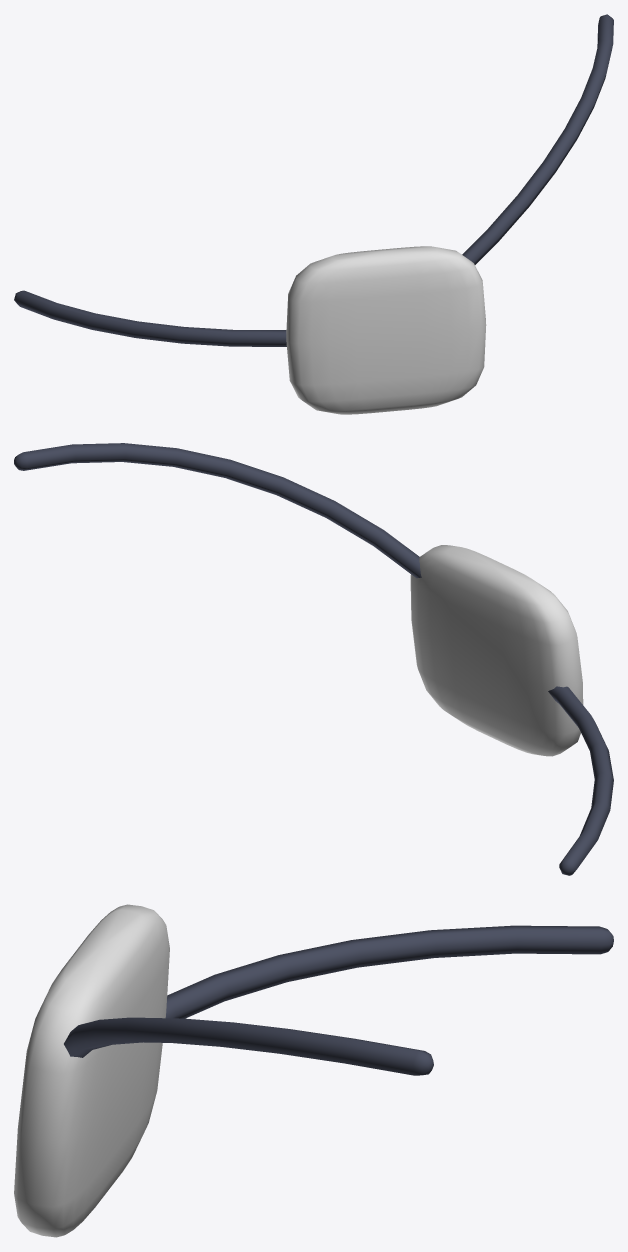
The model's file is eye_patch.glb.
3 renders of one model, top to bottom at view 1: azimuth 30°, elevation 25°; view 2: azimuth 150°, elevation 25°; view 3: azimuth 270°, elevation 25°, orthographic. The views are drawn at different scales.
Visible parts, largest first — view 1: eye_patch; view 2: eye_patch; view 3: eye_patch.
Part boxes in pixels (x1=…): eye_patch: x1=14, y1=14, x2=613, y2=414; eye_patch: x1=14, y1=443, x2=613, y2=875; eye_patch: x1=14, y1=904, x2=613, y2=1237.
Bounding box in the file's own units: 0.8925 × 0.3809 × 0.5054.
